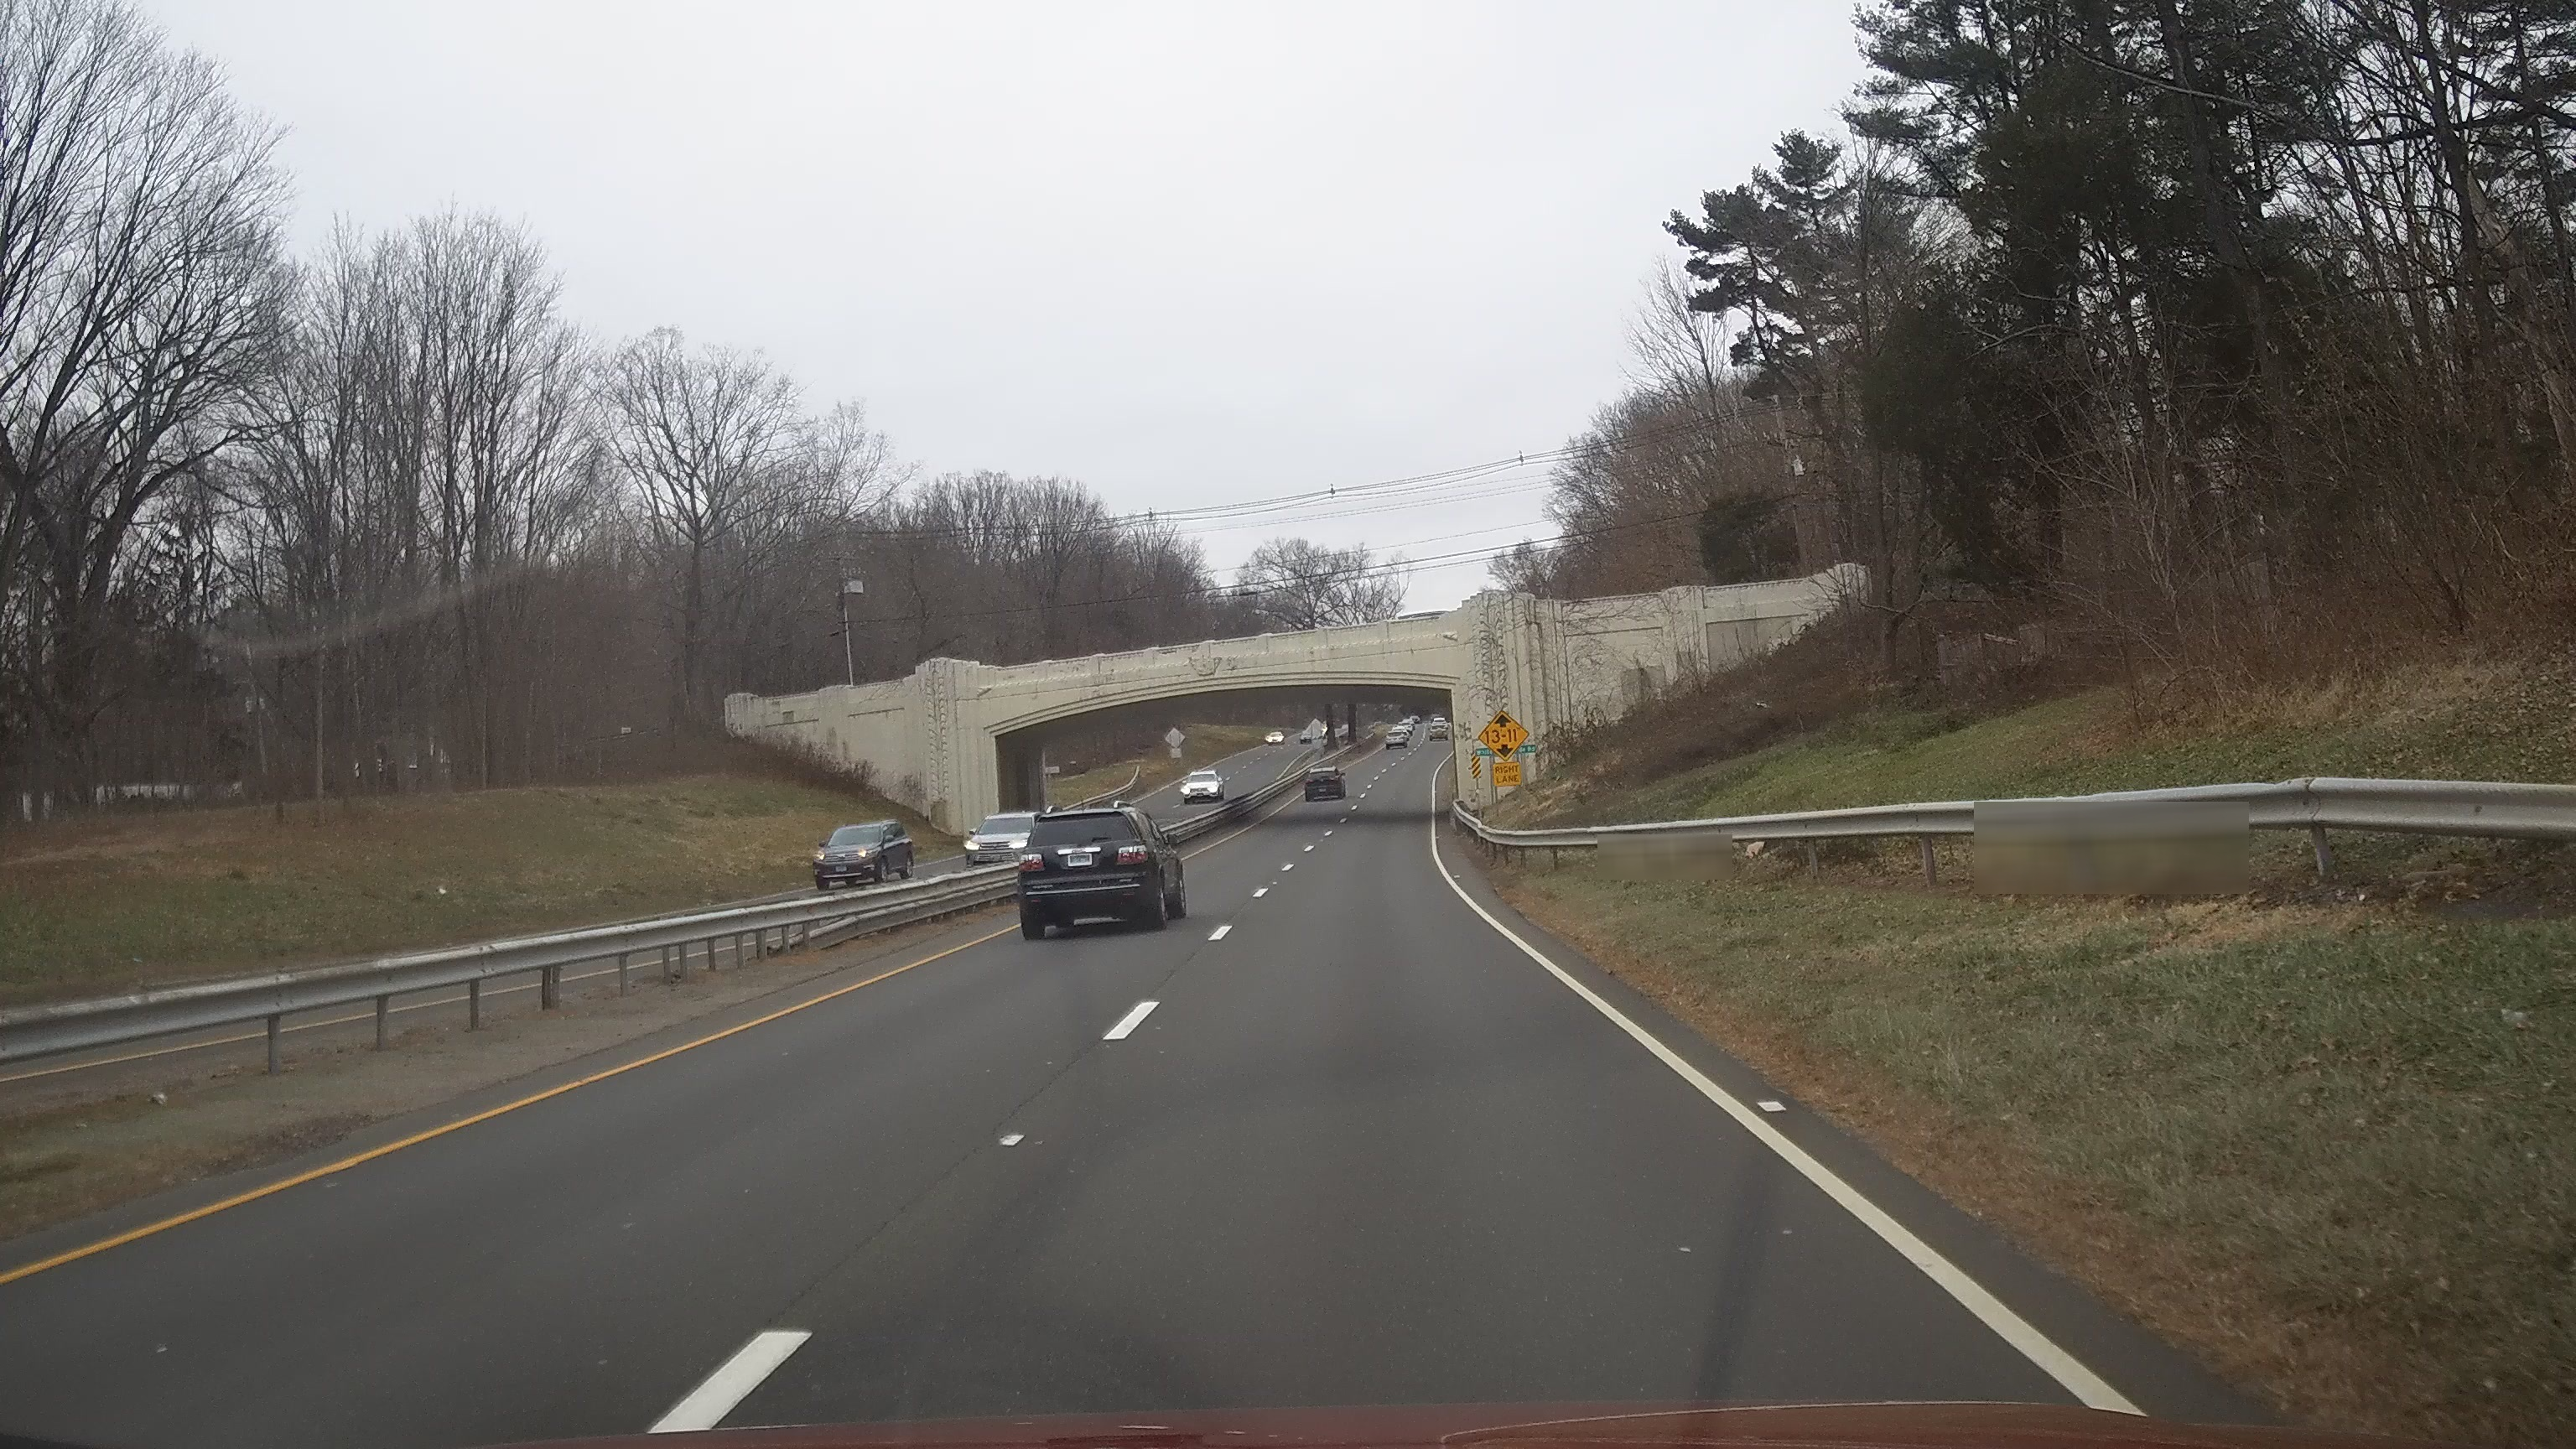low-clearance-sign: (1477, 709, 1529, 763)
